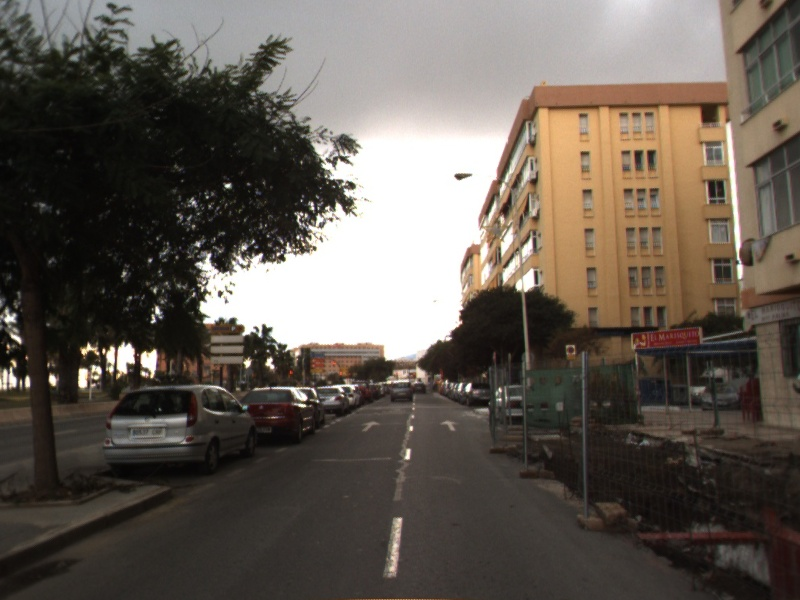STRAIGHT: (359, 419, 382, 433), (439, 418, 461, 432)
